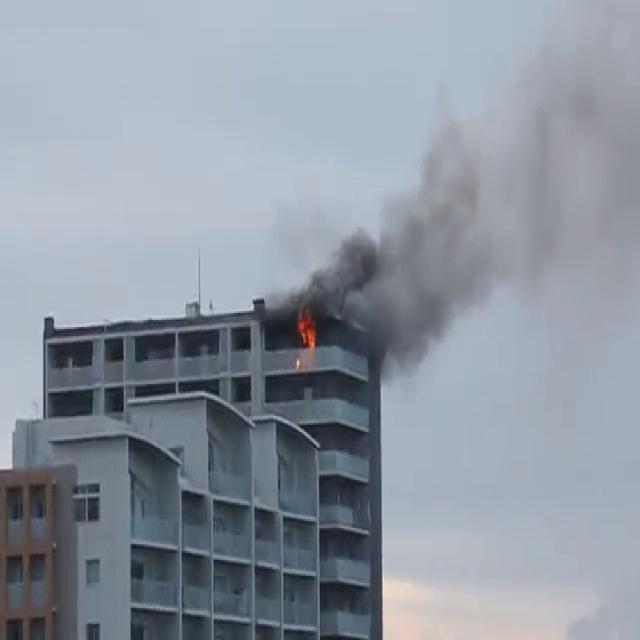Fire: (292, 311, 320, 363)
Smoke: (269, 3, 640, 380)
